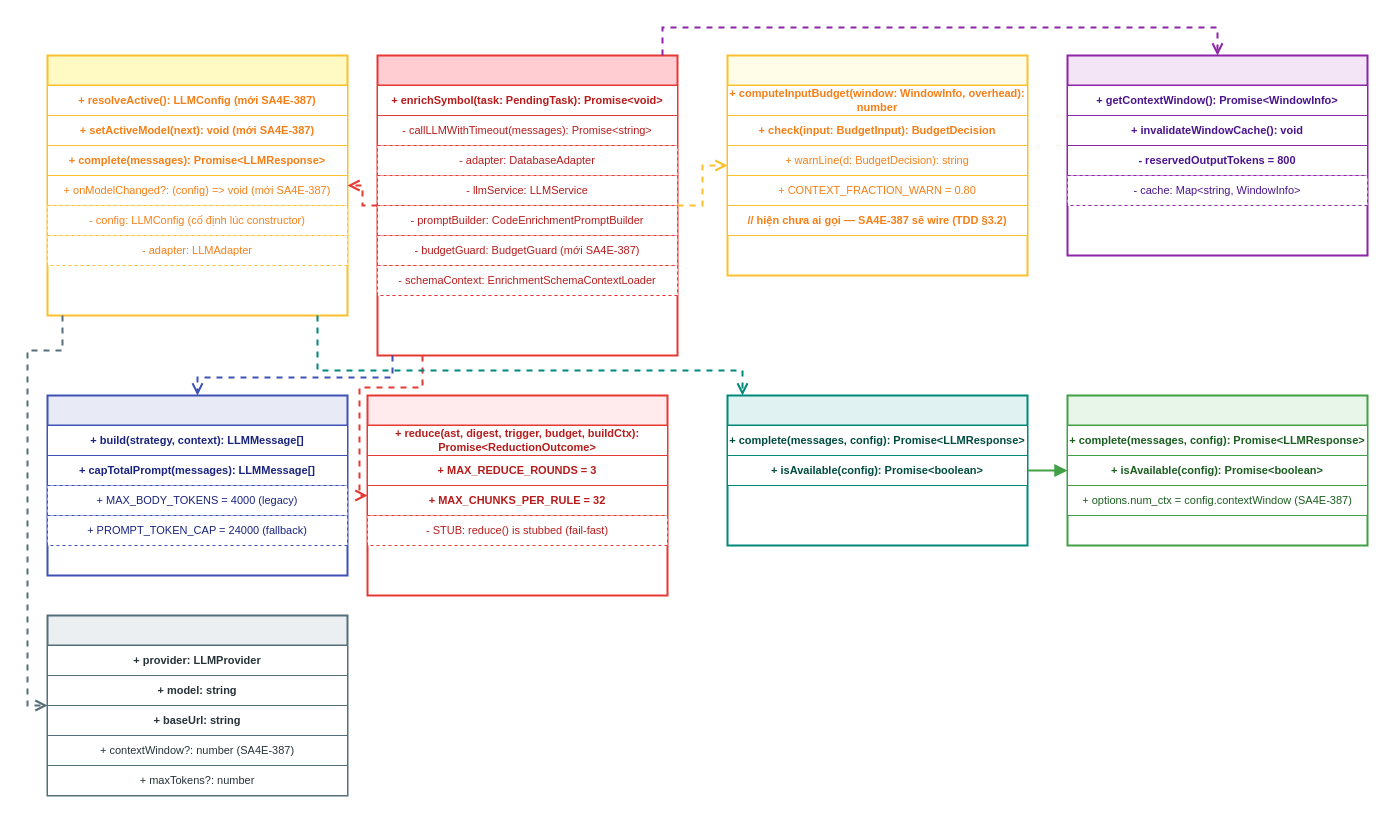
This 1385x813 diagram has some shape labels left out. Each missing label, with the box of its shape:
BudgetGuard: (726, 54, 1028, 276)
CodeEnrichmentHandler: (376, 54, 678, 356)
CodeEnrichmentPromptBuilder: (46, 394, 348, 576)
ContextWindowDiscovery: (1066, 54, 1368, 256)
LLMAdapter (interface): (726, 394, 1028, 546)
LLMConfig: (46, 614, 348, 796)
LLMService: (46, 54, 348, 316)
OllamaAdapter: (1066, 394, 1368, 546)
ReductionPipeline: (366, 394, 668, 596)
